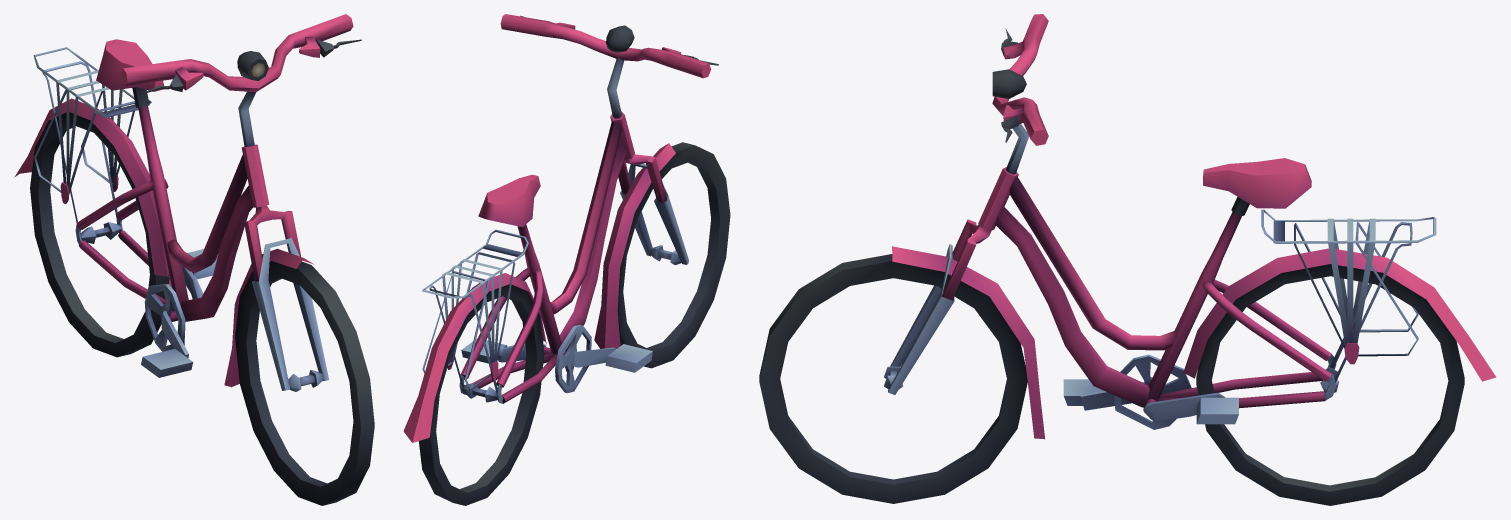
The model's file is vehicles-bikes-bicycle_v1.glb.
3 renders of one model, left to right at view 1: azimuth 30°, elevation 25°; view 2: azimuth 150°, elevation 25°; view 3: azimuth 270°, elevation 25°, orthographic. The views are drawn at different scales.
Parts seen in each view (by area): view 1: Bicycle.001, Bicycle; view 2: Bicycle.001, Bicycle; view 3: Bicycle.001, Bicycle.
Part boxes in pixels (x1,y1,x2,y2): Bicycle.001: [14, 14, 374, 505]; Bicycle: [33, 39, 361, 391]; Bicycle.001: [403, 14, 730, 505]; Bicycle: [422, 15, 718, 403]; Bicycle.001: [759, 14, 1496, 505]; Bicycle: [884, 28, 1436, 429].
Bounding box in the file's own units: 0.6782 × 1.17 × 1.8.
